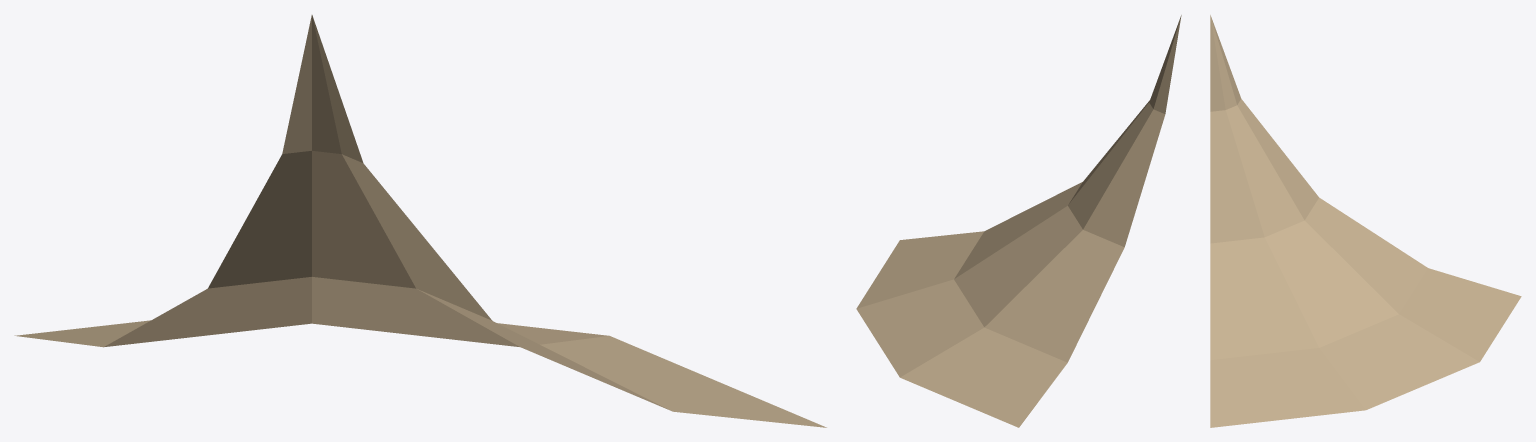
Rendered from Escarpment_Terrain_Corner_Outer_1x1_Base.fbx.
3 renders of one model, left to right at view 1: azimuth 30°, elevation 25°; view 2: azimuth 150°, elevation 25°; view 3: azimuth 270°, elevation 25°, orthographic. The views are drawn at different scales.
Visible parts, largest first — view 1: object1; view 2: object1; view 3: object1.
Boxes of the visible parts, x1,y1,x2,y2 form: object1: (14,15,826,427); object1: (856,15,1181,427); object1: (1210,15,1521,427).
Size of the model in its own units: 0.5 by 0.5 by 0.5.
